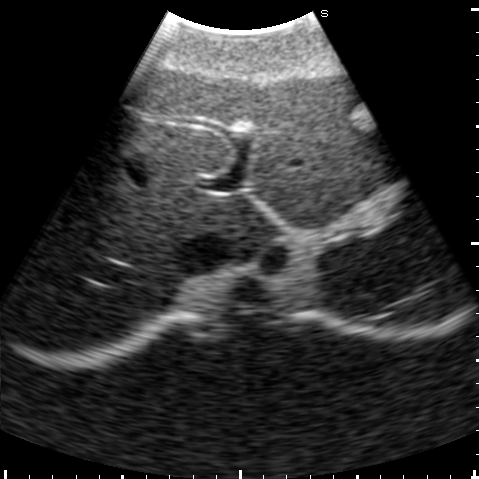IVC: (174, 231, 236, 278)
S1: (212, 195, 280, 259)
S2: (246, 161, 404, 227)
S3: (233, 74, 396, 197)
Tumor: (349, 103, 377, 130)
